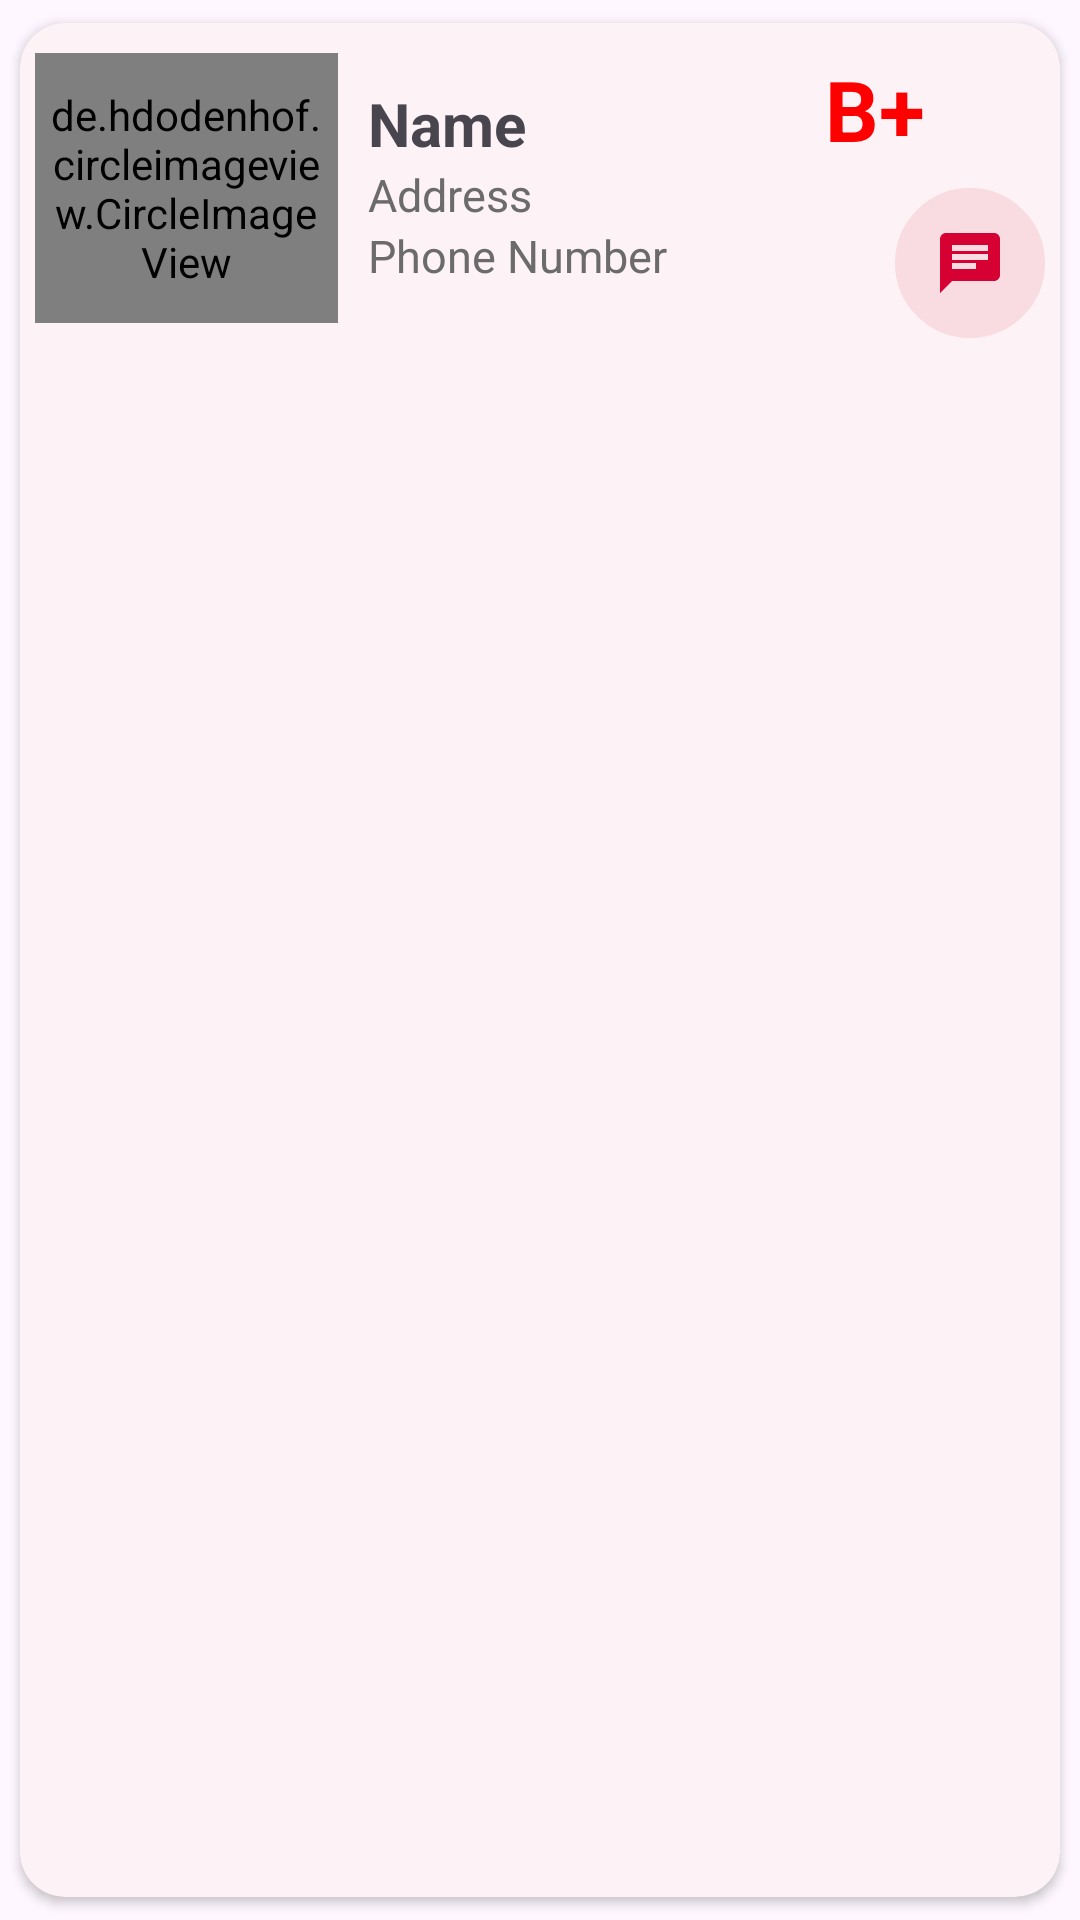

Icons on this 1080 × 1920 Android screen, each with its box as (x1, y1, x2, y2):
chat: (940, 233, 1000, 293)
